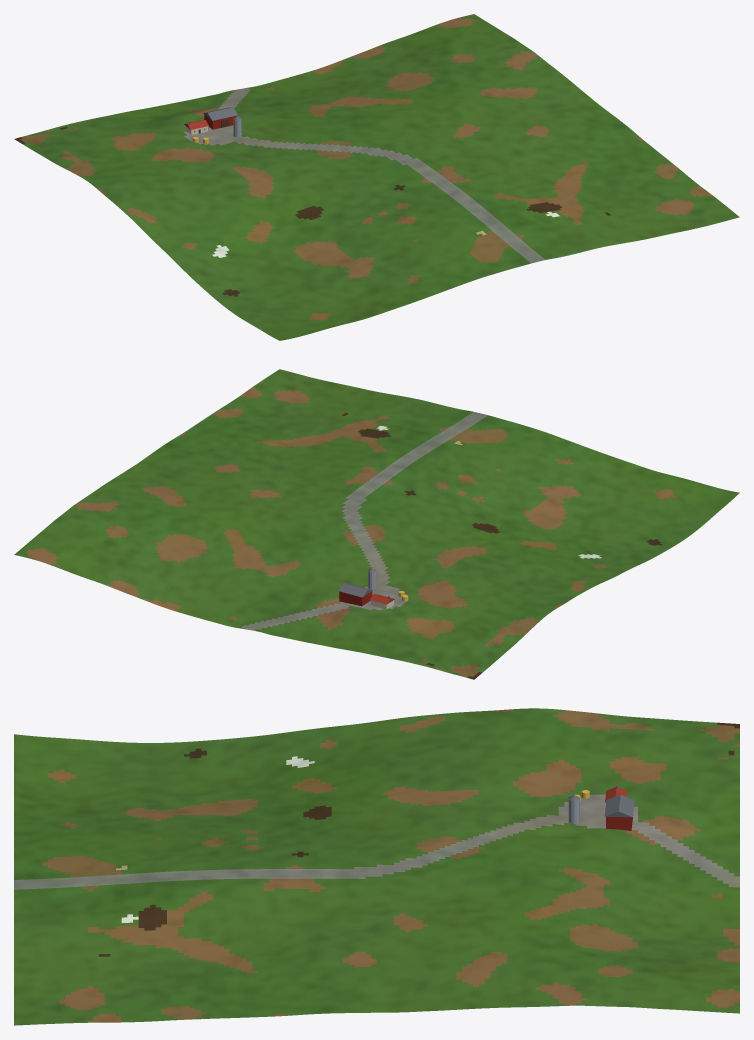
The model's file is chunk_3_5.glb.
The picture shows the model from 3 angles, top to bottom: view 1: azimuth 30°, elevation 25°; view 2: azimuth 150°, elevation 25°; view 3: azimuth 270°, elevation 25°; orthographic projection. The views are drawn at different scales.
Visible parts, largest first — view 1: Surface_Grass, Surface_Dirt, Surface_Gravel, Structure_hollow_farm, Surface_Mud; view 2: Surface_Grass, Surface_Dirt, Surface_Gravel, Structure_hollow_farm, Surface_Mud; view 3: Surface_Grass, Surface_Dirt, Surface_Gravel, Structure_hollow_farm, Surface_Mud.
Boxes of the visible parts, <box> form: Surface_Grass: <box>22,14,739,340</box>; Surface_Dirt: <box>20,17,712,320</box>; Surface_Gravel: <box>184,88,545,263</box>; Structure_hollow_farm: <box>184,107,241,143</box>; Surface_Mud: <box>14,126,611,296</box>; Surface_Grass: <box>14,369,739,675</box>; Surface_Dirt: <box>26,387,676,677</box>; Surface_Gravel: <box>241,412,487,630</box>; Structure_hollow_farm: <box>338,568,408,609</box>; Surface_Mud: <box>342,412,662,679</box>; Surface_Grass: <box>14,708,739,1025</box>; Surface_Dirt: <box>42,709,739,1022</box>; Surface_Gravel: <box>14,794,739,889</box>; Structure_hollow_farm: <box>568,785,634,830</box>; Surface_Mud: <box>99,722,739,956</box>.
Size of the model in its own units: 256 by 22.2 by 256.
